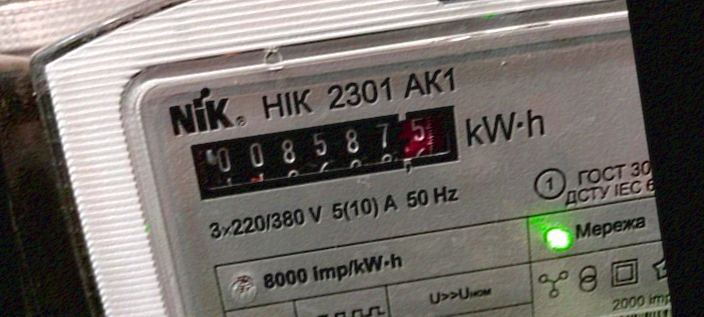0: (213, 144, 234, 175), (247, 140, 268, 170)
5: (310, 129, 331, 160), (409, 115, 430, 146)
7: (373, 119, 395, 151)
8: (342, 125, 363, 157), (279, 136, 299, 166)
screen: (171, 88, 482, 214)
